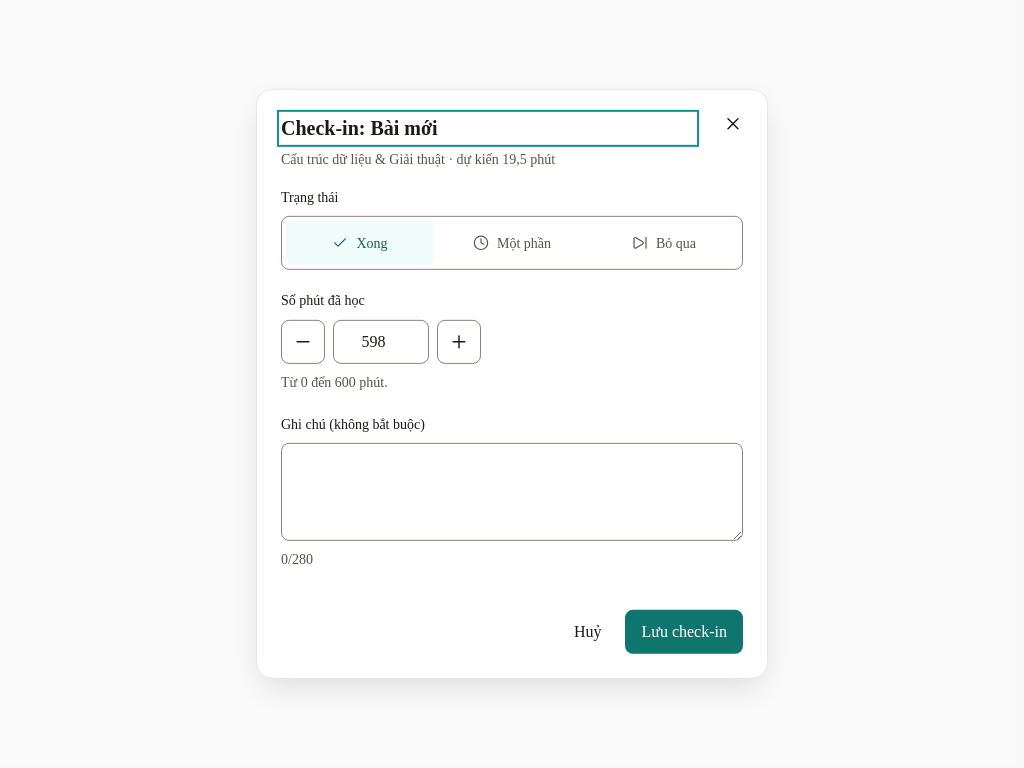
Test case: CheckInSheet (DESIGN_SYSTEM §9, §10) › steps minutes by 5 within 0–600; a value outside says so and disables submit
Click the button named "Thêm 5 phút" at (459, 342), box [437,320,481,364]
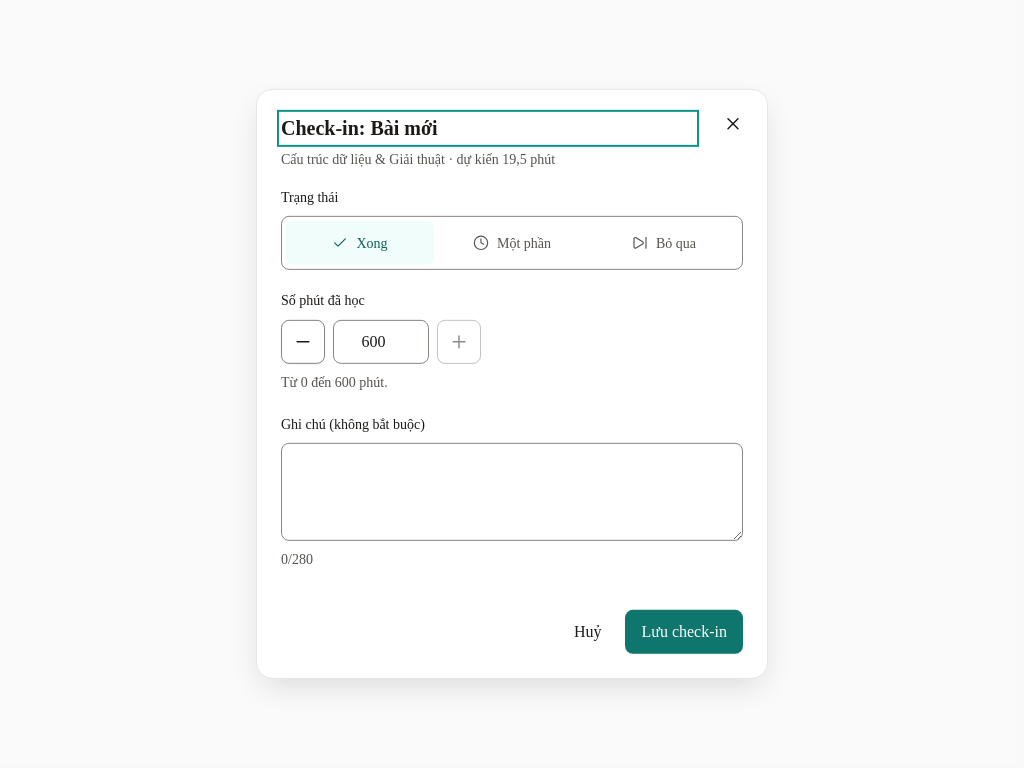
Check: the number field labelled "Số phút đã học" holds "600", box [333,320,429,364]
Check: the button named "Thêm 5 phút" is disabled, box [437,320,481,364]
Click the button named "Bớt 5 phút" at (303, 342), box [281,320,325,364]
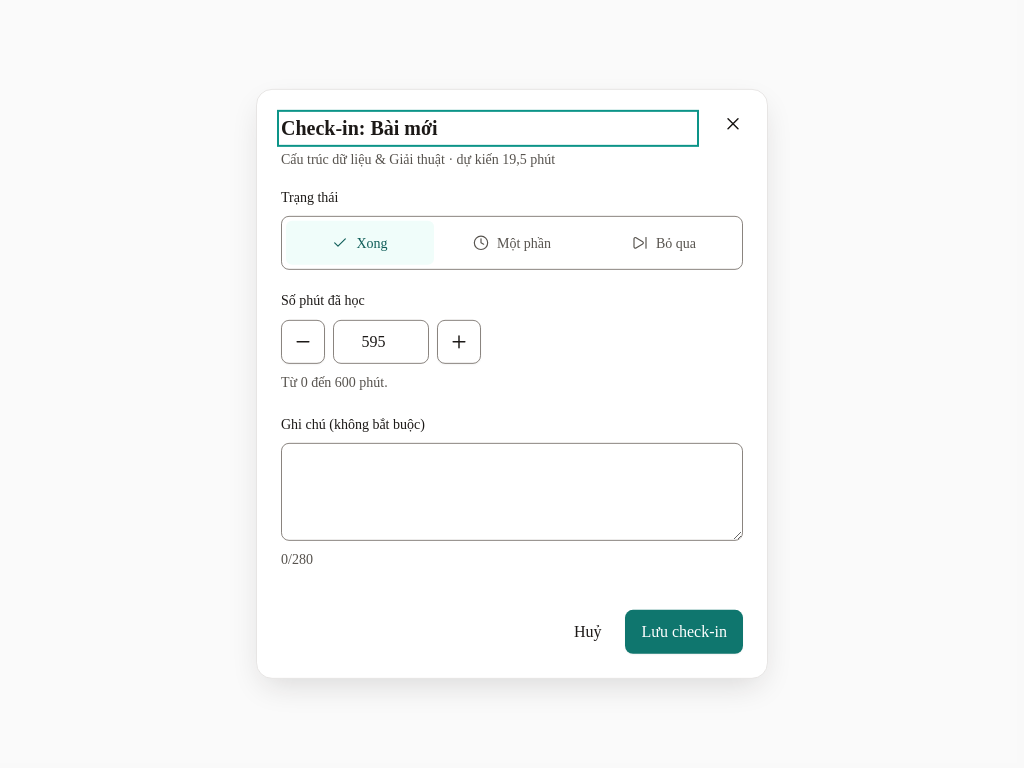
Check: the number field labelled "Số phút đã học" holds "595"
Replace the text in the number field labelled "Số phút đã học" with "601" at (381, 342), box [333,320,429,364]
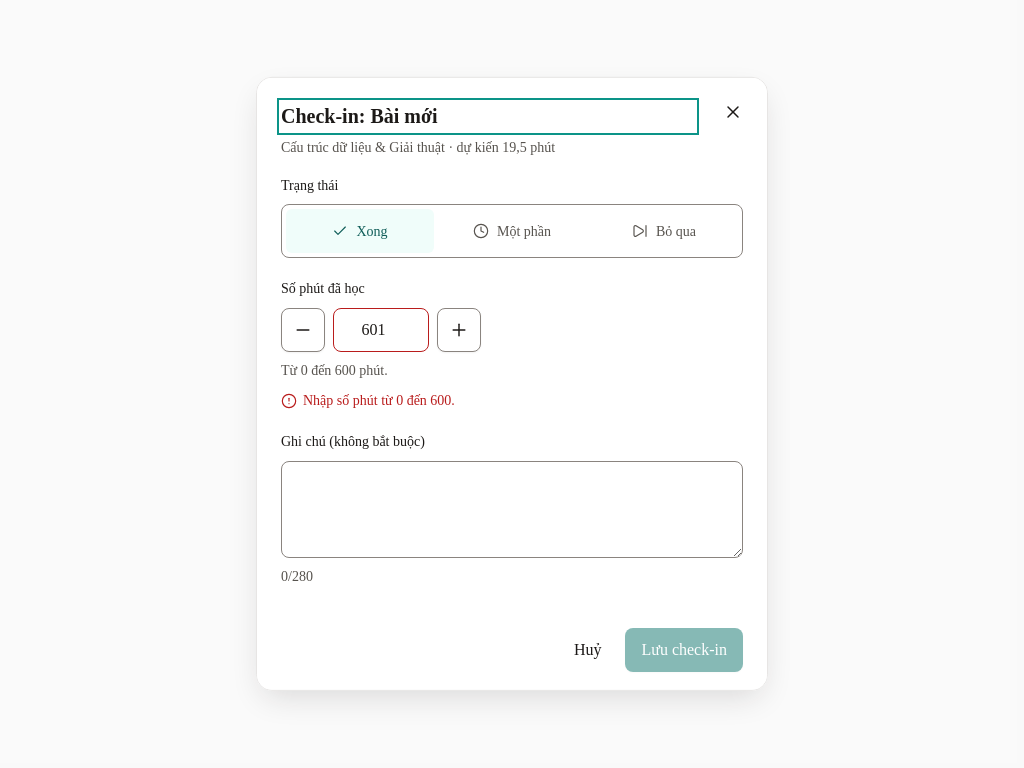
Check: the text "Nhập số phút từ 0 đến 600." is shown, box [281,392,455,408]
Check: the button "Lưu check-in" is disabled, box [626,628,743,672]
Replace the text in the number field labelled "Số phút đã học" with "2" at (381, 330), box [333,308,429,352]
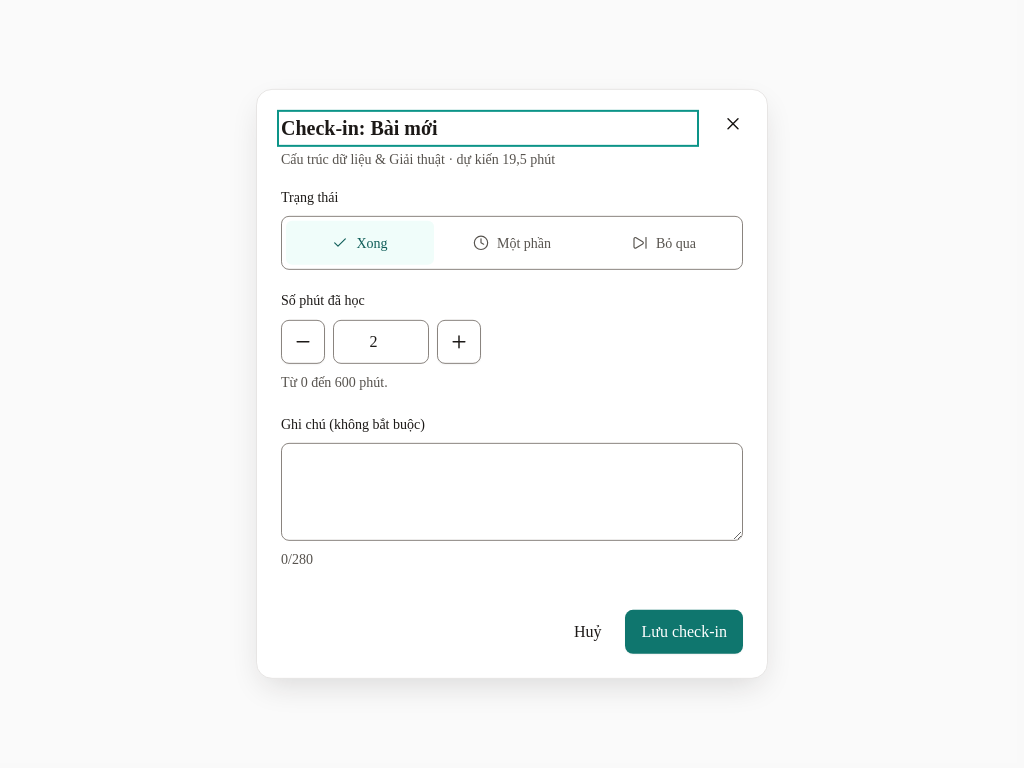
Click the button named "Bớt 5 phút" at (303, 342), box [281,320,325,364]
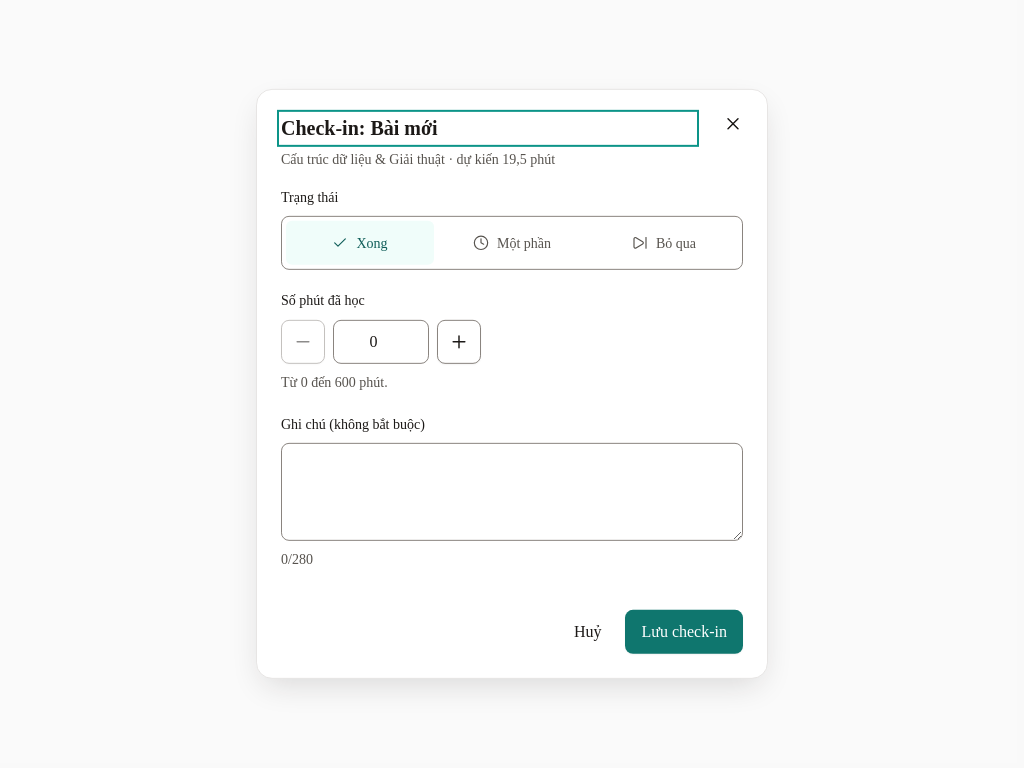
Check: the number field labelled "Số phút đã học" holds "0", box [333,320,429,364]
Check: the button named "Bớt 5 phút" is disabled, box [281,320,325,364]
